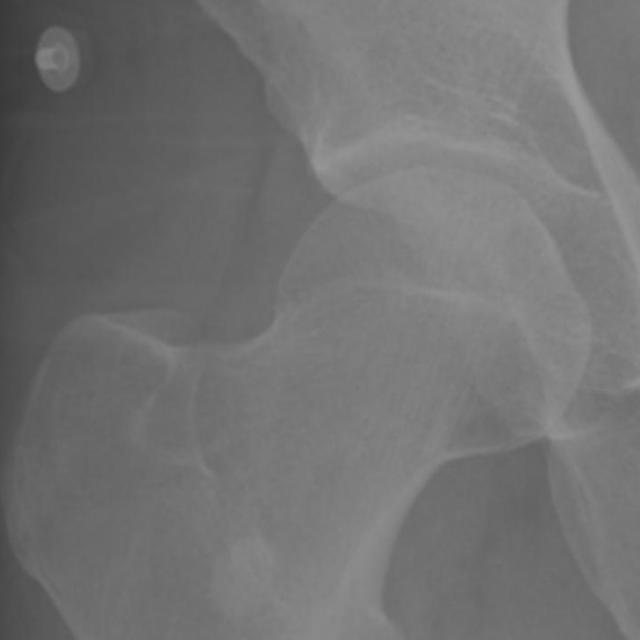Fitted_femural_head: (307, 170, 432, 307)
